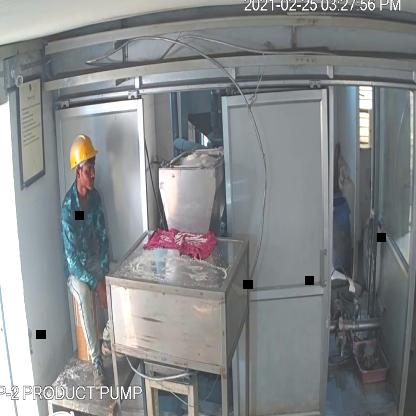helmet: (63, 132, 100, 172)
